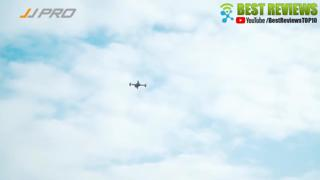UAV: (129, 81, 148, 90)
